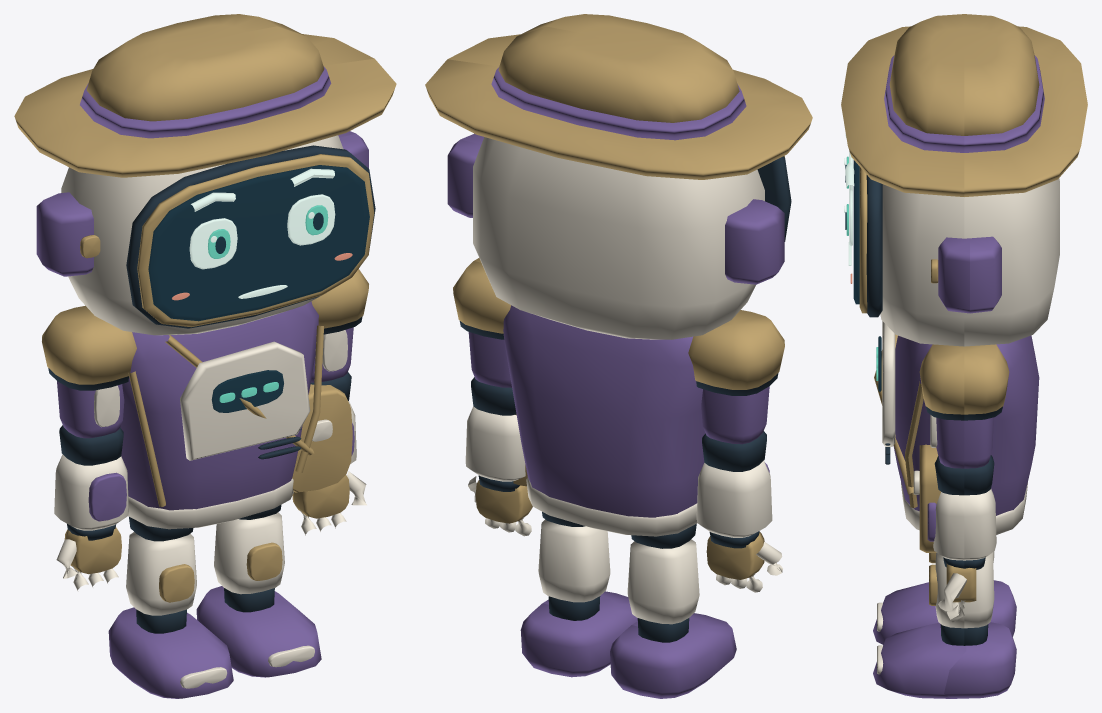
The model's file is museum-low.glb.
3 renders of one model, left to right at view 1: azimuth 30°, elevation 25°; view 2: azimuth 150°, elevation 25°; view 3: azimuth 270°, elevation 25°, orthographic.
Visible parts, largest first — view 1: visor-rim, torso-enamel, face-display, lower-shell, head-hull, ear-housing--1, collar-lip, shoulder-cap--1, visor-gasket, leg-armor--1, leg-armor-1, forearm-shell--1 (+18 smaller); view 2: torso-enamel, head-hull, visor-rim, ear-housing--1, shoulder-cap--1, leg-armor--1, leg-armor-1, forearm-shell--1, forearm-shell-1, lower-shell, upper-arm--1, shoulder-cap-1 (+9 smaller); view 3: visor-rim, head-hull, torso-enamel, ear-housing--1, shoulder-cap-1, forearm-shell-1, lower-shell, collar-lip, upper-arm-1, leg-armor-1, visor-gasket, elbow-1 (+5 smaller).
Boxes of the visible parts, box(x1,y1,x2,y2) form: visor-rim: box(14, 14, 396, 327); torso-enamel: box(108, 301, 321, 698); face-display: box(148, 165, 369, 321); lower-shell: box(128, 341, 332, 688); head-hull: box(61, 135, 343, 335); ear-housing--1: box(36, 66, 368, 276); collar-lip: box(128, 325, 352, 506); shoulder-cap--1: box(42, 305, 136, 384); visor-gasket: box(126, 145, 375, 328); leg-armor--1: box(126, 532, 196, 615); leg-armor-1: box(214, 512, 284, 594); forearm-shell--1: box(54, 454, 128, 530); torso-enamel: box(503, 305, 736, 698); head-hull: box(473, 137, 764, 339); visor-rim: box(425, 14, 812, 179); ear-housing--1: box(447, 67, 784, 284); shoulder-cap--1: box(688, 310, 784, 389); leg-armor--1: box(627, 539, 699, 624); leg-armor-1: box(538, 519, 610, 602); forearm-shell--1: box(696, 460, 772, 537); forearm-shell-1: box(465, 406, 525, 481); lower-shell: box(526, 477, 697, 536); upper-arm--1: box(701, 386, 769, 444); shoulder-cap-1: box(453, 258, 510, 333); visor-rim: box(841, 14, 1087, 313); head-hull: box(880, 178, 1059, 346); torso-enamel: box(873, 335, 1039, 698); ear-housing--1: box(884, 55, 1044, 313); shoulder-cap-1: box(919, 344, 1009, 414); forearm-shell-1: box(933, 489, 996, 560); lower-shell: box(877, 321, 1027, 674); collar-lip: box(874, 334, 940, 552); upper-arm-1: box(936, 417, 993, 468); leg-armor-1: box(935, 552, 994, 628); visor-gasket: box(866, 175, 882, 317); elbow-1: box(934, 455, 994, 569).
Size of the model in its own units: 1.04 by 1.81 by 0.66.
